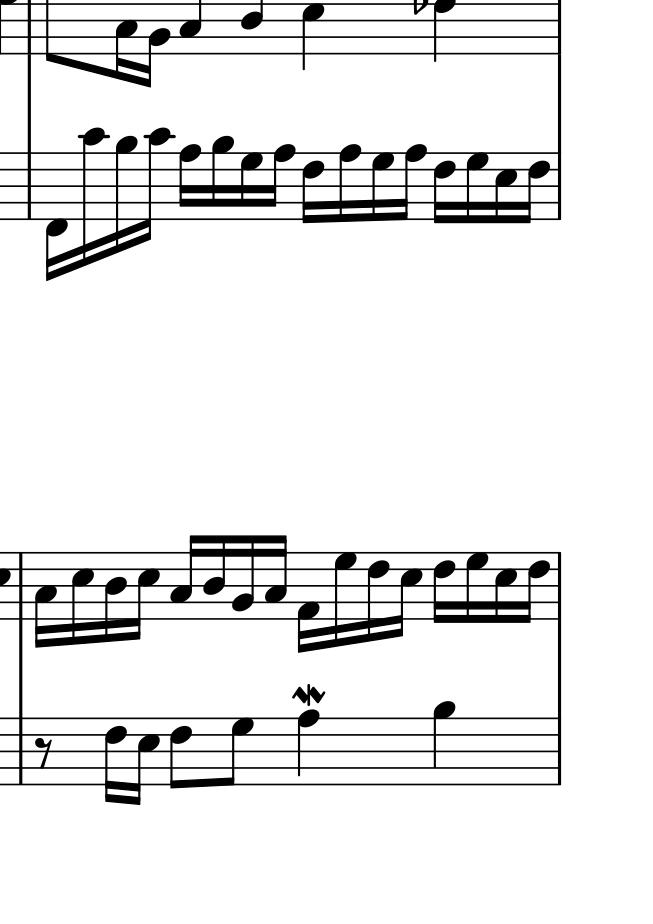16_-1: (45, 152, 68, 283)
16_1: (296, 549, 321, 655)
16_10: (80, 127, 112, 265), (139, 127, 175, 242)
16_2: (231, 534, 255, 620)
16_3: (170, 533, 202, 620), (33, 551, 57, 649), (263, 533, 288, 621)
16_4: (200, 534, 226, 620), (103, 551, 126, 642)
16_5: (130, 716, 161, 805), (133, 551, 161, 641), (395, 550, 423, 637), (70, 550, 94, 645), (494, 150, 518, 224), (494, 550, 518, 624)
16_6: (521, 550, 552, 622), (520, 151, 550, 224), (366, 550, 389, 642), (104, 716, 128, 804), (431, 551, 456, 625), (432, 151, 457, 223), (302, 150, 326, 224)
16_7: (333, 551, 358, 645), (464, 550, 489, 625), (465, 150, 490, 224), (370, 150, 394, 222), (239, 151, 262, 222)
16_8: (263, 143, 296, 220), (399, 143, 427, 221), (337, 143, 362, 221), (178, 144, 202, 222)
16_9: (114, 134, 138, 254), (211, 135, 235, 221)
4_8: (296, 709, 321, 785)
4_9: (432, 699, 457, 785)
8_6: (169, 714, 192, 790)
8_7: (220, 716, 255, 787)
Mordent: (288, 681, 326, 708)
Rests8: (34, 735, 56, 770)
Single_barline: (548, 718, 567, 785), (12, 551, 29, 621), (551, 551, 567, 621), (551, 153, 567, 221), (13, 719, 29, 784), (21, 152, 36, 220)
